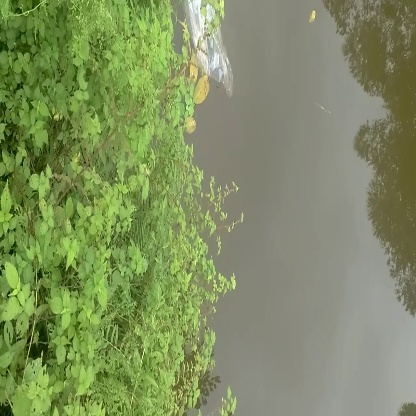plastic-bag: (184, 1, 244, 97)
